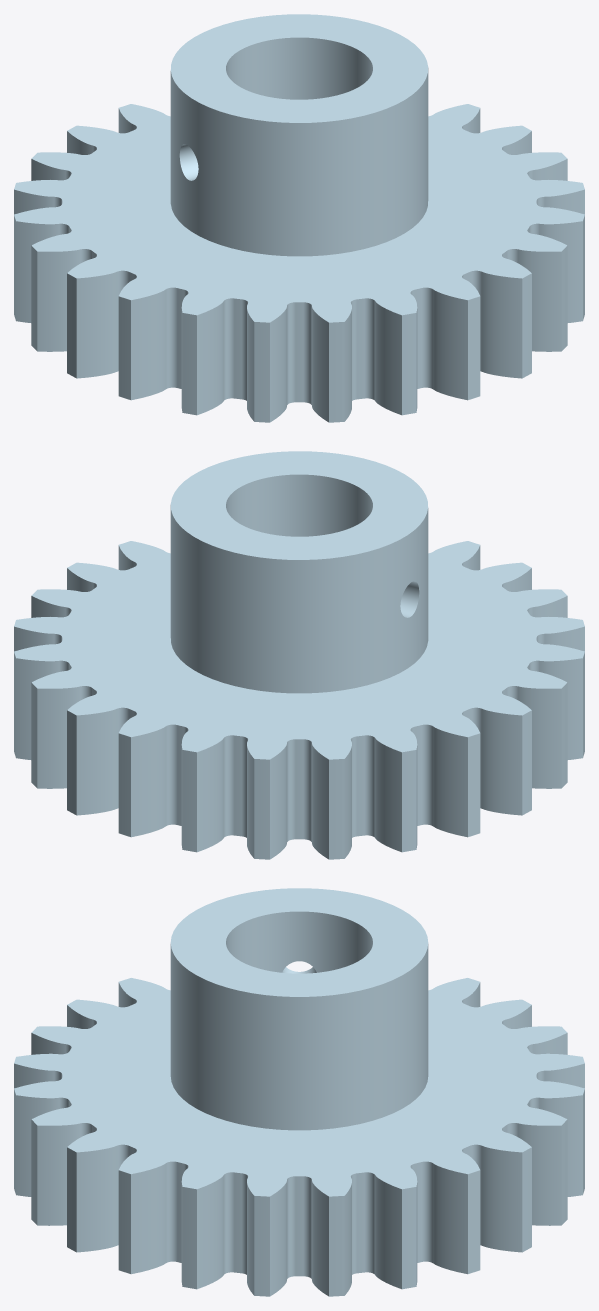
File: HexagonGearMedium.gltf
3 views of the same model, one above another, from view 1: azimuth 30°, elevation 25°; view 2: azimuth 150°, elevation 25°; view 3: azimuth 270°, elevation 25° (orthographic).
Visible parts, largest first — view 1: Spur gear (24 teeth); view 2: Spur gear (24 teeth); view 3: Spur gear (24 teeth).
Part boxes in pixels (x1,y1,x2,y2): Spur gear (24 teeth): (14,14,584,422); Spur gear (24 teeth): (14,451,584,859); Spur gear (24 teeth): (14,888,584,1296).
Bounding box in the file's own units: 0.0776 × 0.035 × 0.0776.
